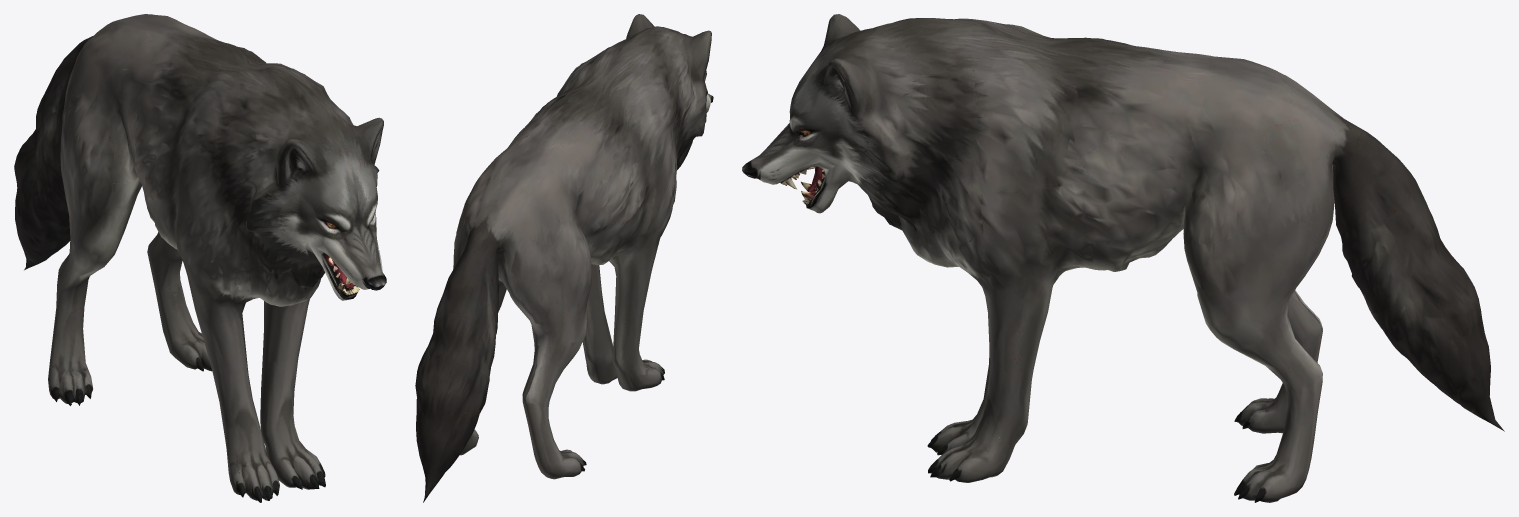
The model's file is wolf.glb.
3 views of the same model, side by side, from view 1: azimuth 30°, elevation 25°; view 2: azimuth 150°, elevation 25°; view 3: azimuth 270°, elevation 25° (orthographic). The views are drawn at different scales.
Size of the model in its own units: 0.5217 by 1.23 by 1.9.
Materials: 1 (1 with a texture image).
